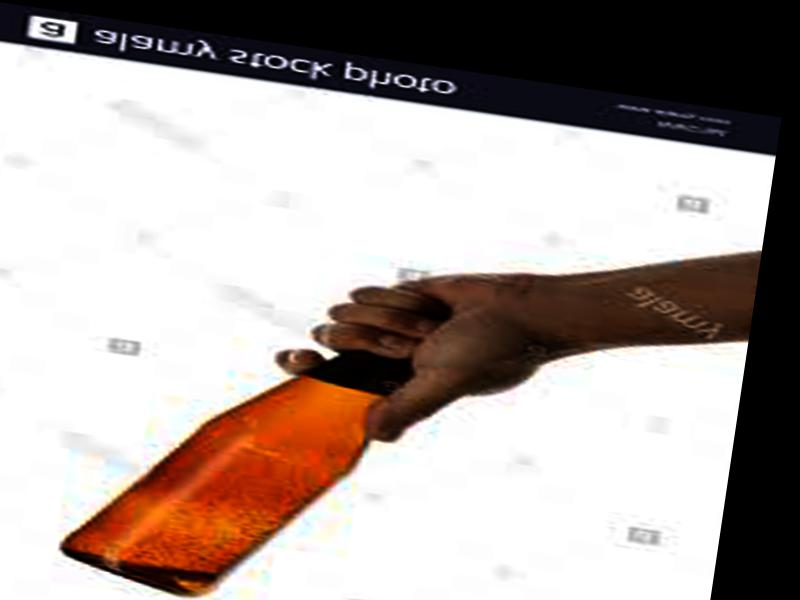Beer: (55, 255, 443, 600)
